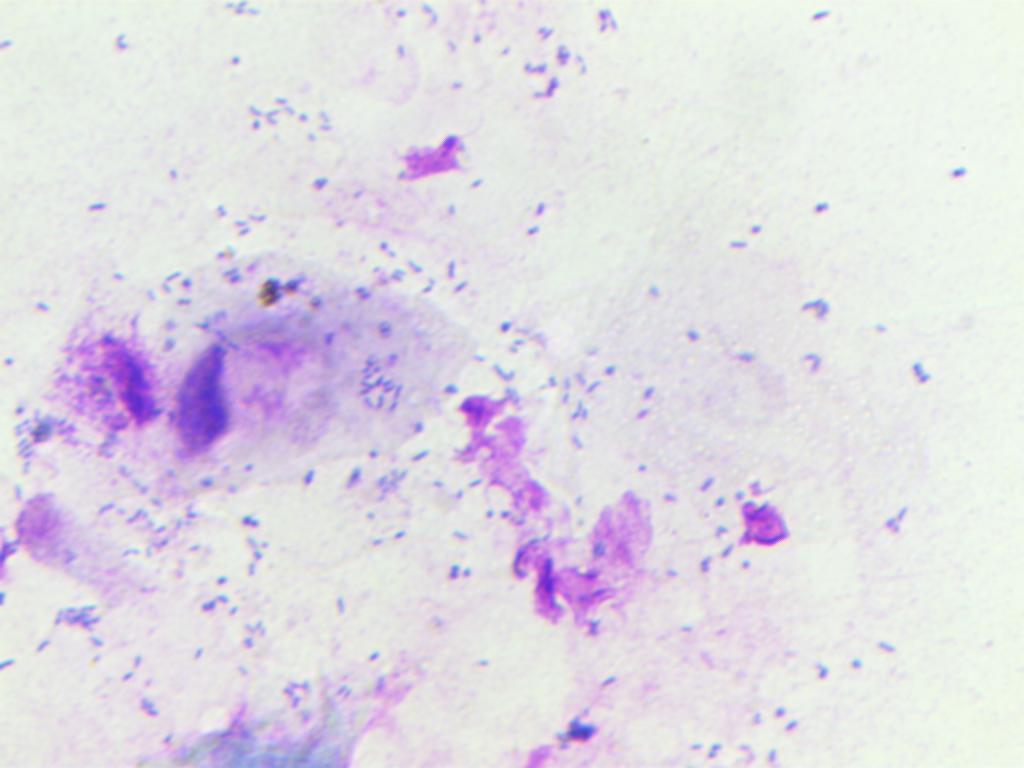artifact: (456, 384, 652, 627), (63, 332, 159, 442), (13, 485, 104, 590), (719, 496, 821, 579), (388, 130, 473, 195)
goblet_cell: (164, 278, 453, 479)
